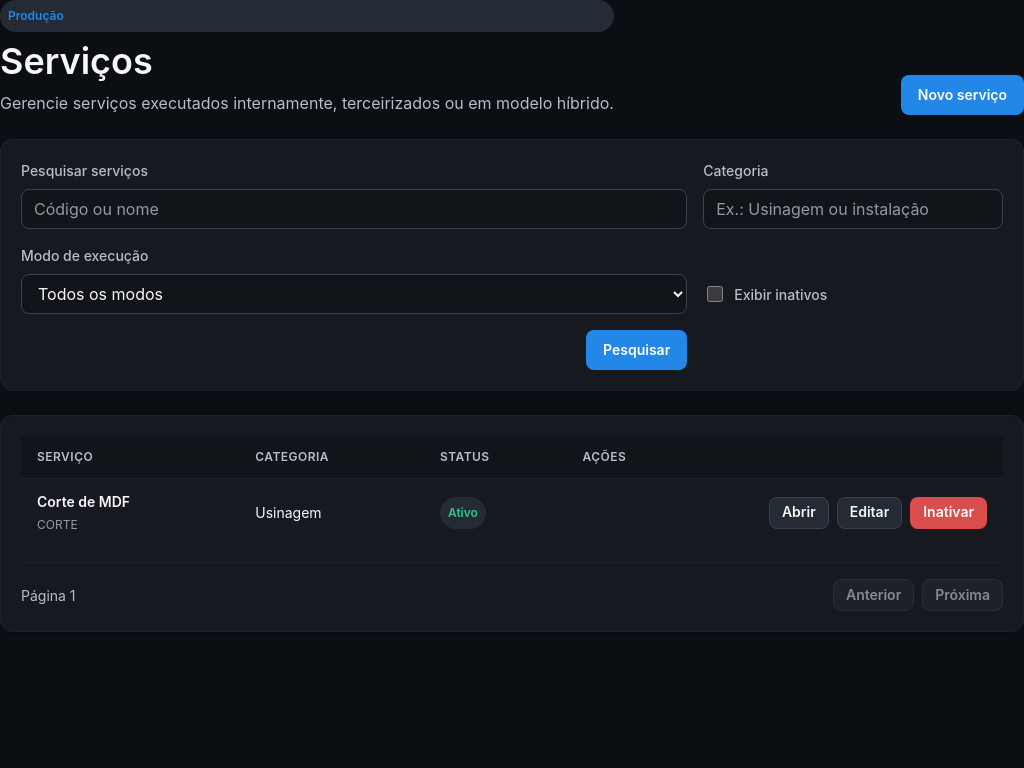
it: ServicesRoute › atualiza um serviço
Expected: the button "Corte de MDF" is shown, [37,491,130,512]
Click the button "Editar" at x=869, y=513, box [837,497,902,529]
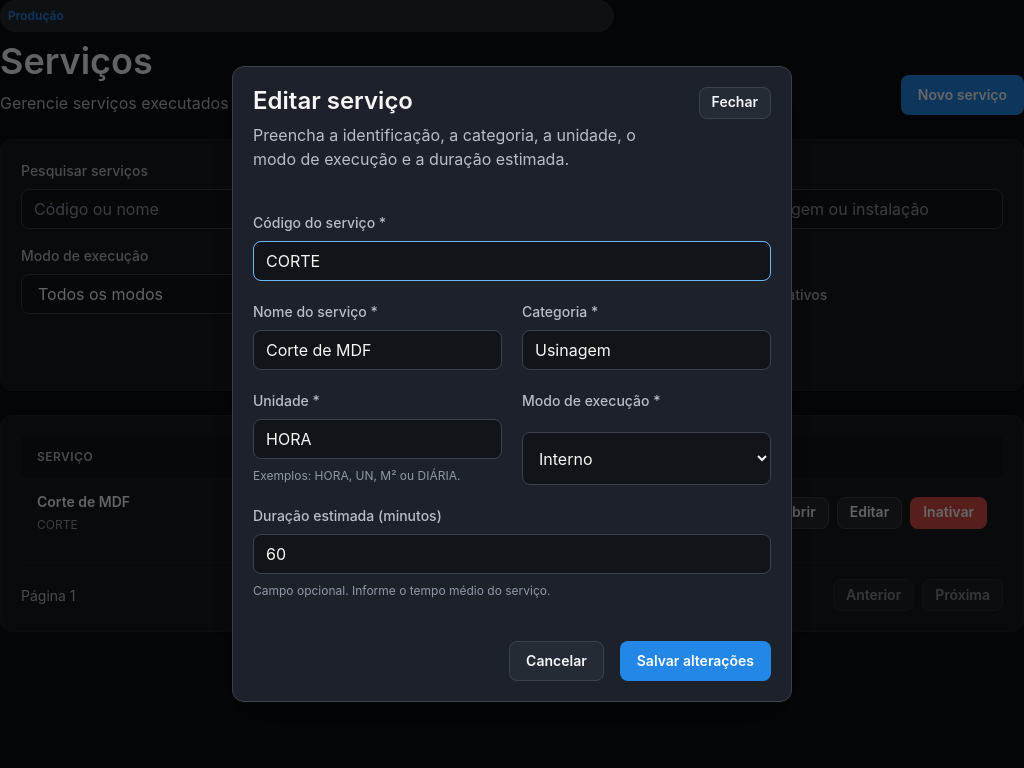
Replace the text in the field labelled "Nome do serviço *" with "Corte de MDF atualizado" at x=378, y=350, box [253,330,502,370]
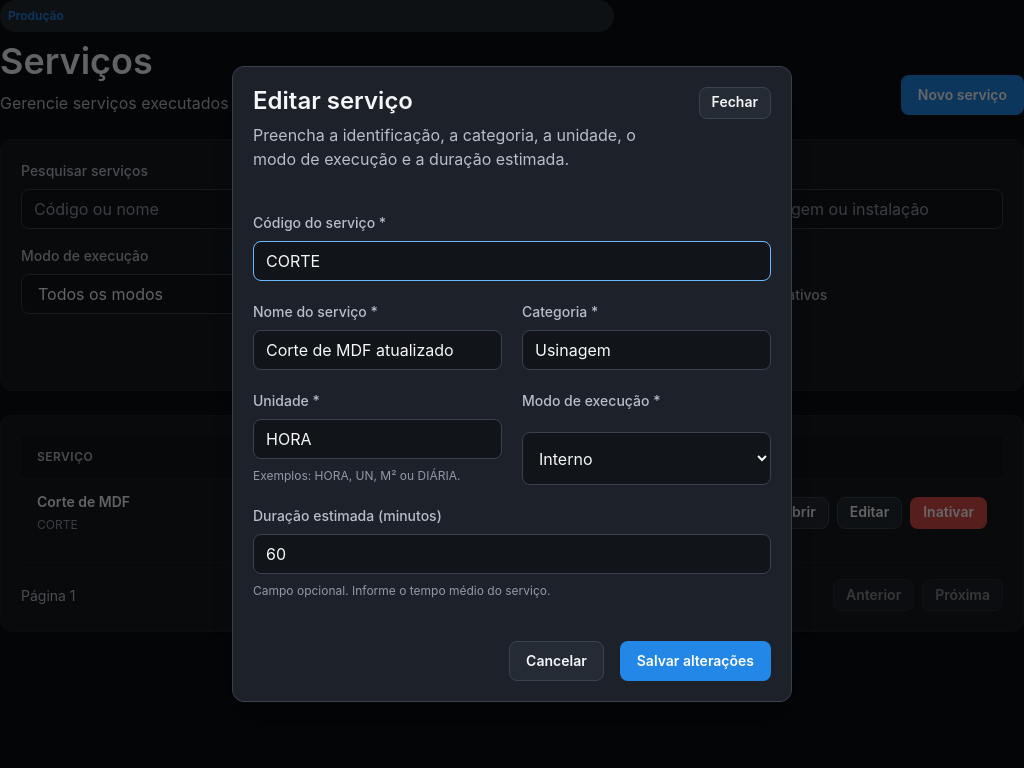
Click the button "Salvar alterações" at x=695, y=661, box [620,641,771,681]
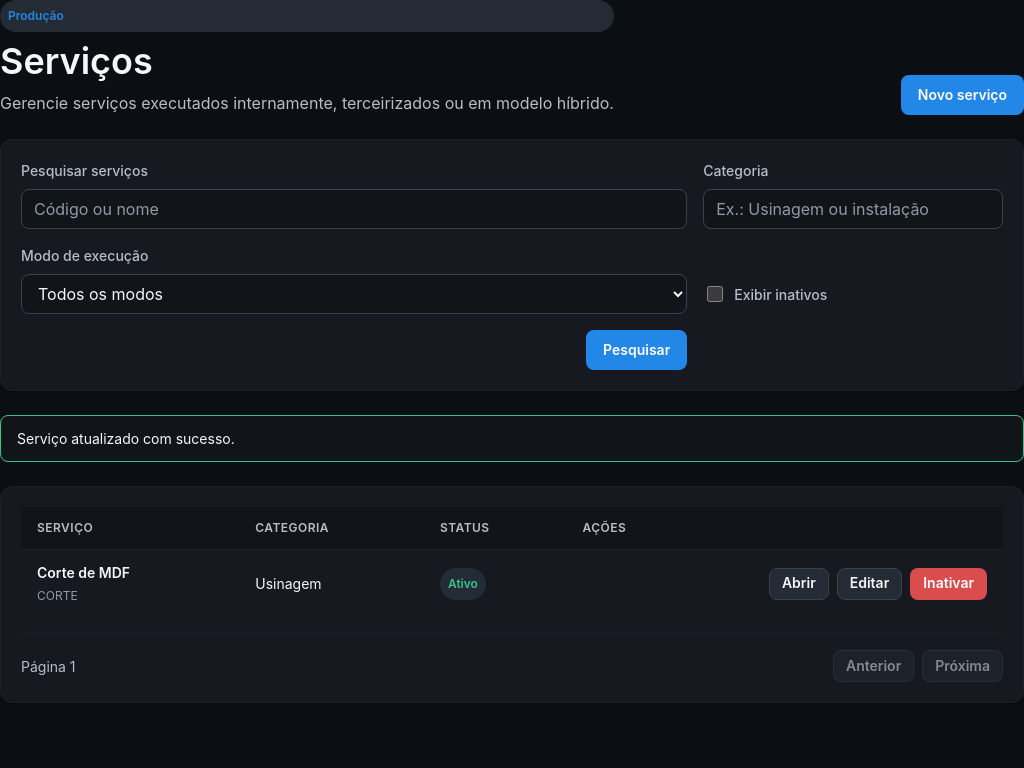
Now the text "Serviço atualizado com sucesso." is shown, box [0,415,1023,462]
